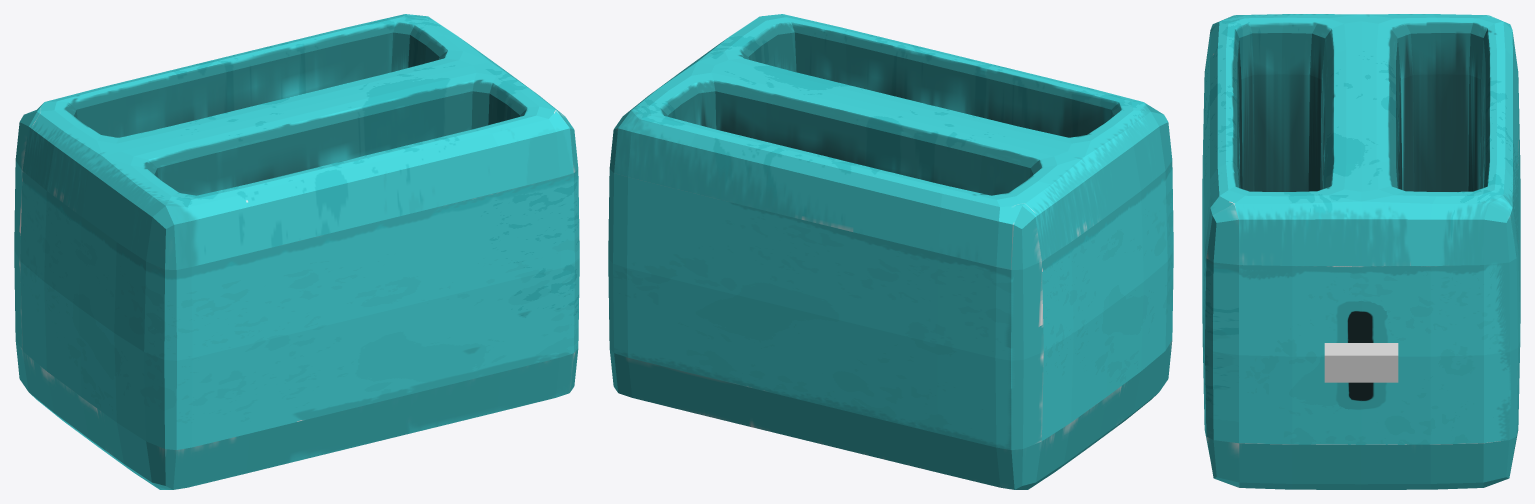
The model's file is toaster.fbx.
3 renders of one model, left to right at view 1: azimuth 30°, elevation 25°; view 2: azimuth 150°, elevation 25°; view 3: azimuth 270°, elevation 25°, orthographic.
Visible parts, largest first — view 1: Cube; view 2: Cube; view 3: Cube, Cube.001.
Part boxes in pixels (x1,y1,x2,y2): Cube: (14,14,579,489); Cube: (608,14,1173,489); Cube: (1202,14,1520,489); Cube.001: (1324,343,1398,382).
Size of the model in its own units: 330 by 200 by 199.
